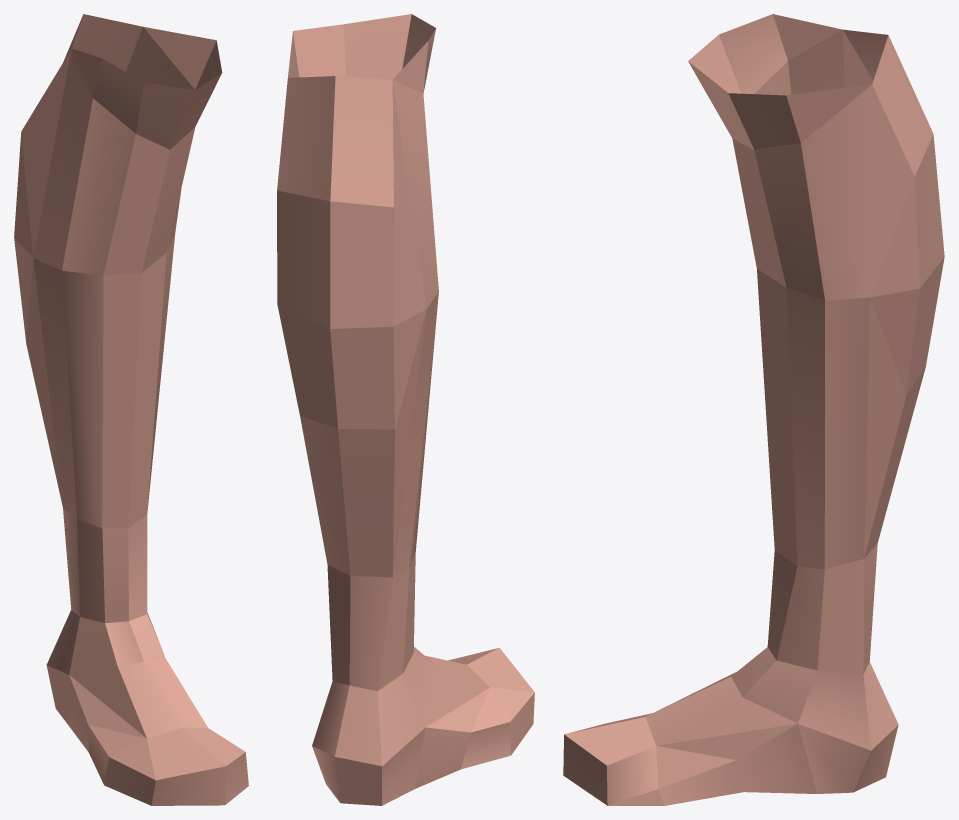
Rendered from cutrmumrleg.fbx.
3 renders of one model, left to right at view 1: azimuth 30°, elevation 25°; view 2: azimuth 150°, elevation 25°; view 3: azimuth 270°, elevation 25°, orthographic. The views are drawn at different scales.
Visible parts, largest first — view 1: mum.017; view 2: mum.017; view 3: mum.017.
Boxes of the visible parts, x1=… form: mum.017: x1=14, y1=14, x2=248, y2=805; mum.017: x1=277, y1=14, x2=534, y2=805; mum.017: x1=563, y1=14, x2=944, y2=805.
Size of the model in its own units: 14.84 by 61.75 by 28.3.
